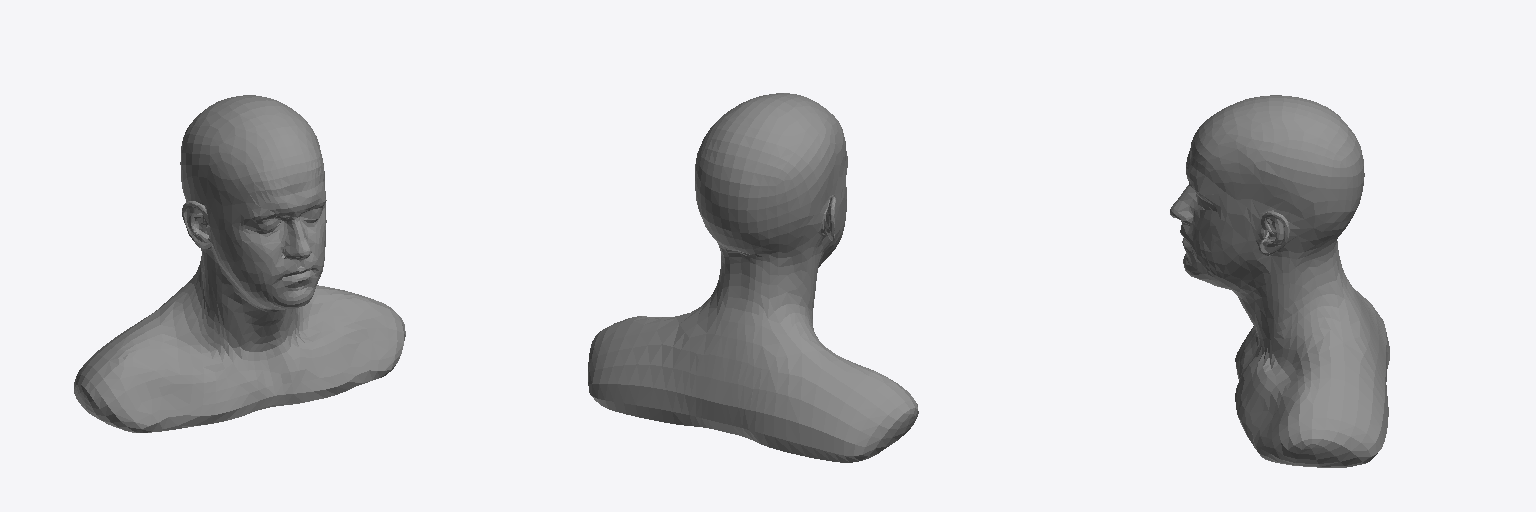
The model's file is head.obj.
3 renders of one model, left to right at view 1: azimuth 30°, elevation 25°; view 2: azimuth 150°, elevation 25°; view 3: azimuth 270°, elevation 25°, orthographic.
Visible parts, largest first — view 1: default; view 2: default; view 3: default.
Part boxes in pixels (left/top/right/bottom): default: left=74, top=95, right=405, bottom=432; default: left=588, top=93, right=918, bottom=462; default: left=1170, top=95, right=1389, bottom=467.
Bounding box in the file's own units: 65.19 × 60.56 × 39.49.